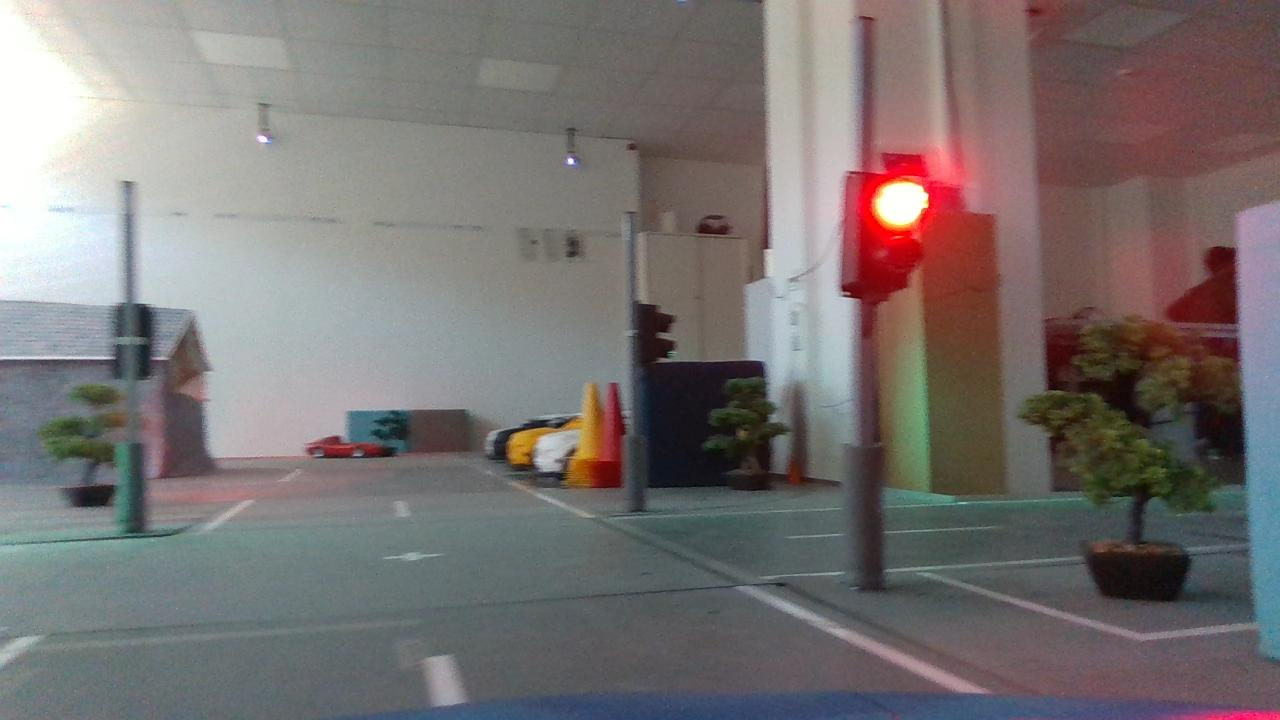traffic_light_red: (826, 159, 941, 311)
